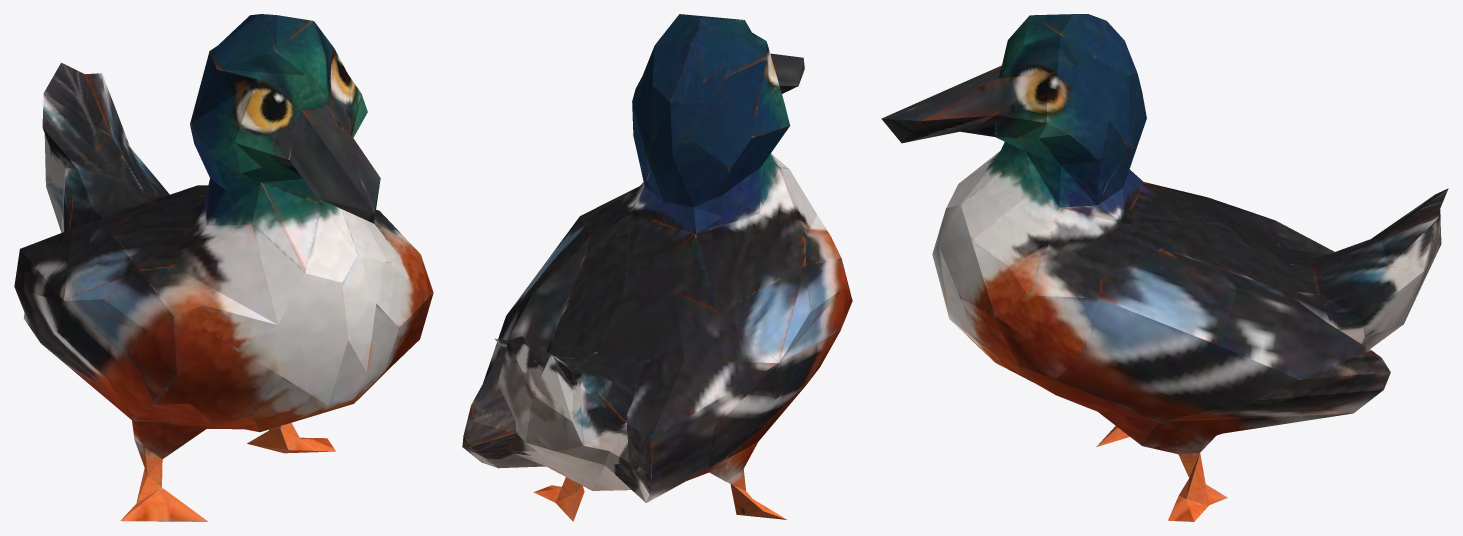
The model's file is duck-shoveler-lod.glb.
3 renders of one model, left to right at view 1: azimuth 30°, elevation 25°; view 2: azimuth 150°, elevation 25°; view 3: azimuth 270°, elevation 25°, orthographic. The views are drawn at different scales.
Visible parts, largest first — view 1: output_unwrapped; view 2: output_unwrapped; view 3: output_unwrapped.
Boxes of the visible parts, x1=… form: output_unwrapped: x1=14, y1=14, x2=433, y2=521; output_unwrapped: x1=462, y1=14, x2=852, y2=521; output_unwrapped: x1=881, y1=14, x2=1448, y2=521.
Size of the model in its own units: 0.2989 by 0.5 by 0.5597.
1 material, 1 textured.
